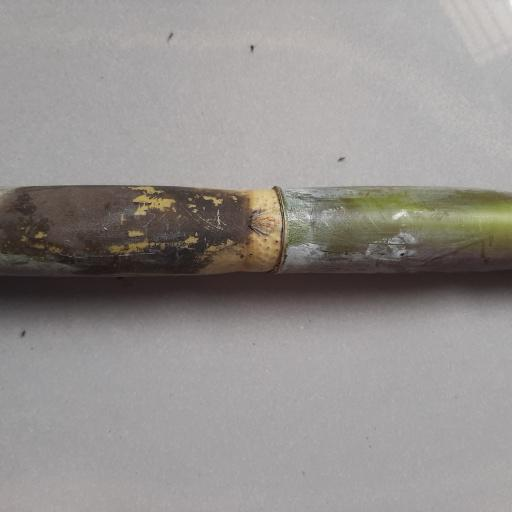Bud: (246, 204, 283, 239)
